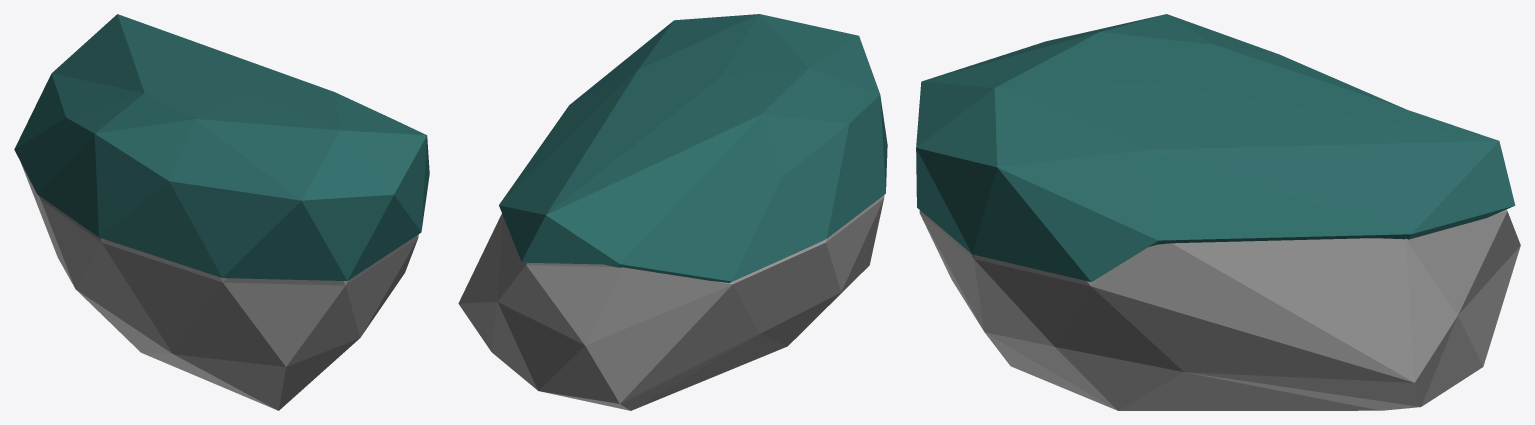
File: Big stone3.fbx
3 views of the same model, side by side, from view 1: azimuth 30°, elevation 25°; view 2: azimuth 150°, elevation 25°; view 3: azimuth 270°, elevation 25° (orthographic). The views are drawn at different scales.
Parts seen in each view (by area): view 1: Big stone3; view 2: Big stone3; view 3: Big stone3.
Part boxes in pixels (x1,y1,x2,y2): Big stone3: (14,14,429,410); Big stone3: (458,14,887,410); Big stone3: (916,14,1520,410).
Bounding box in the file's own units: 723 × 594 × 1049.
